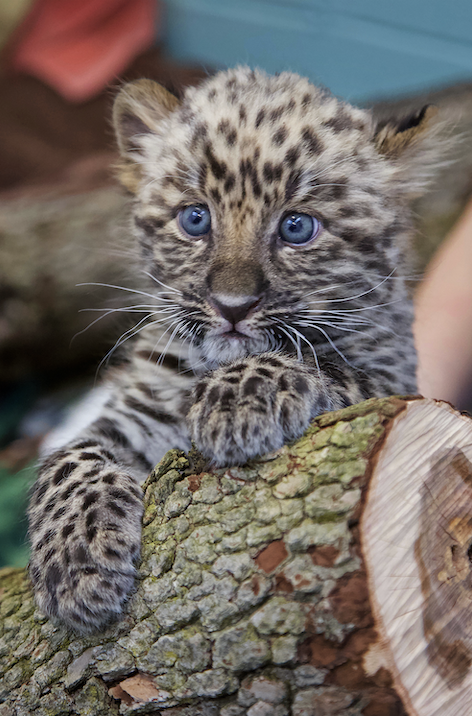amur_leopard: (73, 33, 456, 446)
